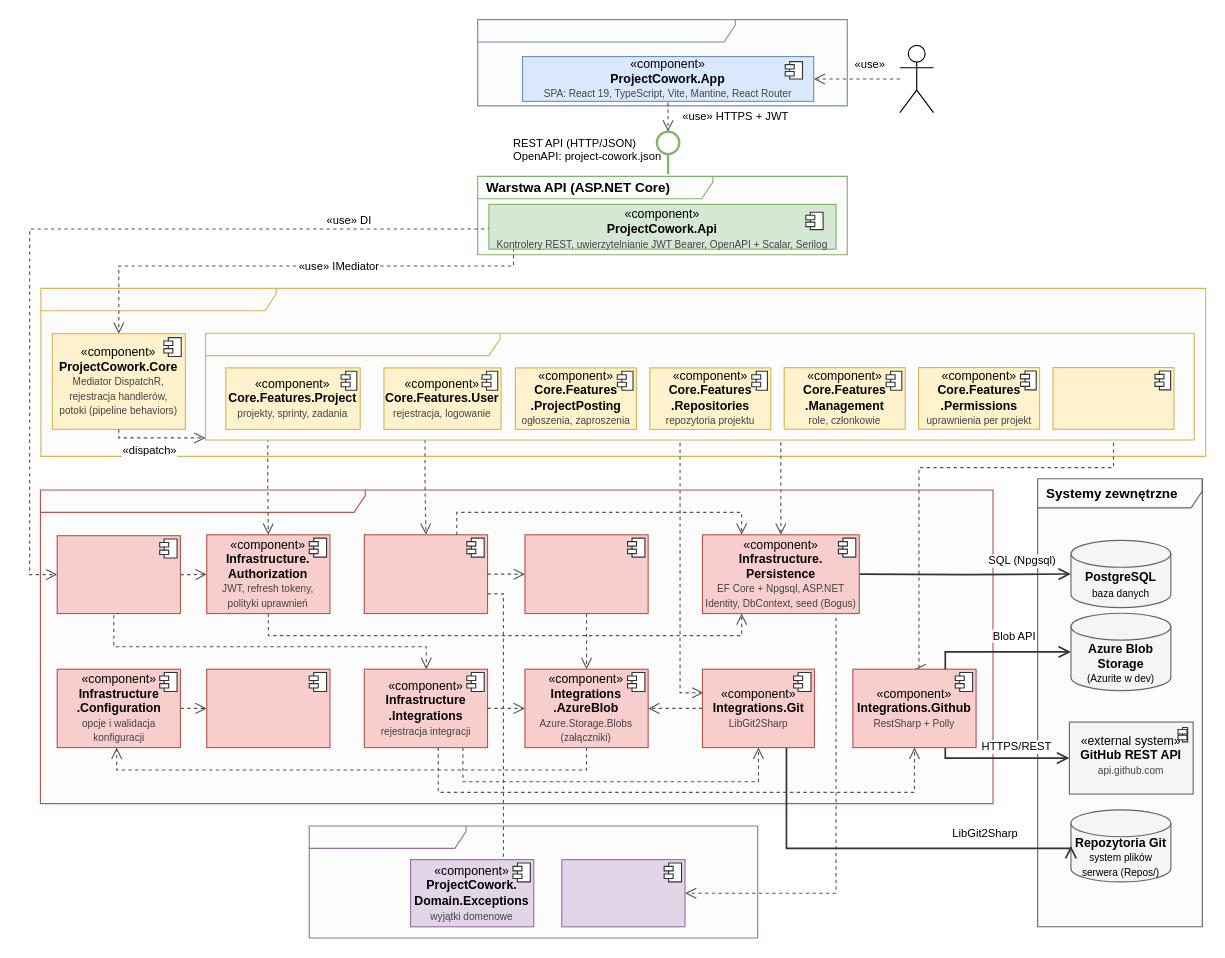
Some shapes in this 1225 by 958 pixel diagram are drawn without their labels. The shapes that lost their labels are listed below. From the top down, each one's box as (x1, y1, x2, y2) in pixels, then its label:
(477, 18, 847, 106): Warstwa prezentacji (przeglądarka)
(899, 44, 934, 113): Użytkownik
(40, 287, 1206, 456): Warstwa aplikacji (Application)
(204, 332, 1194, 440): Features (handlery komend i zapytań)
(1052, 366, 1174, 429): «component» Core.Features .Integrations GitHub, import repo
(56, 535, 180, 614): «component» Infrastructure kompozycja DI (composition root)
(363, 534, 488, 614): «component» Infrastructure. Domain repozytoria domenowe, Unit of Work
(524, 534, 648, 614): «component» Infrastructure. DomainEvents handlery zdarzeń domenowych (DispatchR)
(39, 489, 993, 804): Warstwa infrastruktury
(206, 668, 330, 748): «component» Infrastructure .Abstractions wspólne interfejsy
(308, 825, 758, 938): Warstwa domeny
(561, 858, 685, 927): «component» ProjectCowork. Domain encje (Models), Enums
